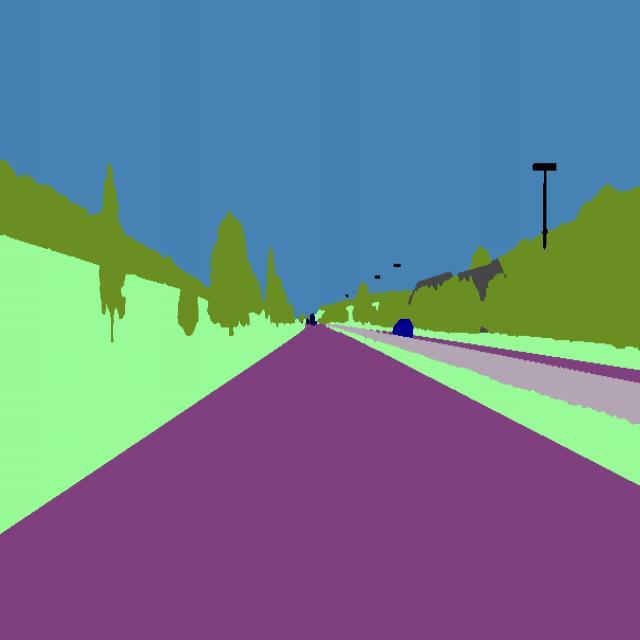safe: (388, 315, 416, 342)
